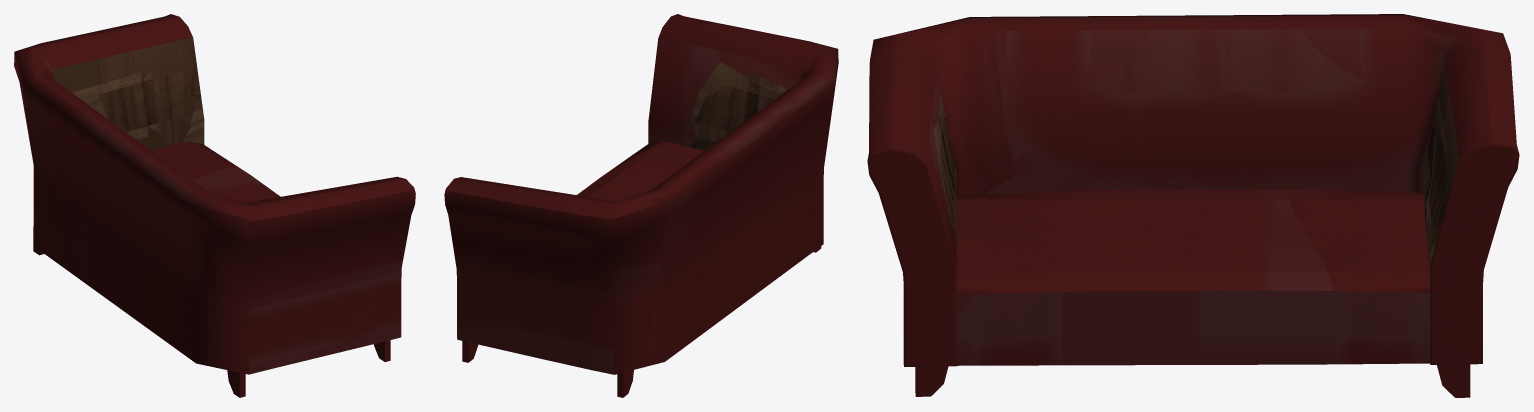
The model's file is Sofa_Big.fbx.
3 renders of one model, left to right at view 1: azimuth 30°, elevation 25°; view 2: azimuth 150°, elevation 25°; view 3: azimuth 270°, elevation 25°, orthographic. The views are drawn at different scales.
Visible parts, largest first — view 1: Sofa_Big; view 2: Sofa_Big; view 3: Sofa_Big.
Boxes of the visible parts, x1=… form: Sofa_Big: x1=14, y1=14, x2=415, y2=397; Sofa_Big: x1=444, y1=14, x2=838, y2=397; Sofa_Big: x1=867, y1=14, x2=1519, y2=397.
Size of the model in its own units: 86.9 by 83.41 by 185.
1 material, 1 textured.
